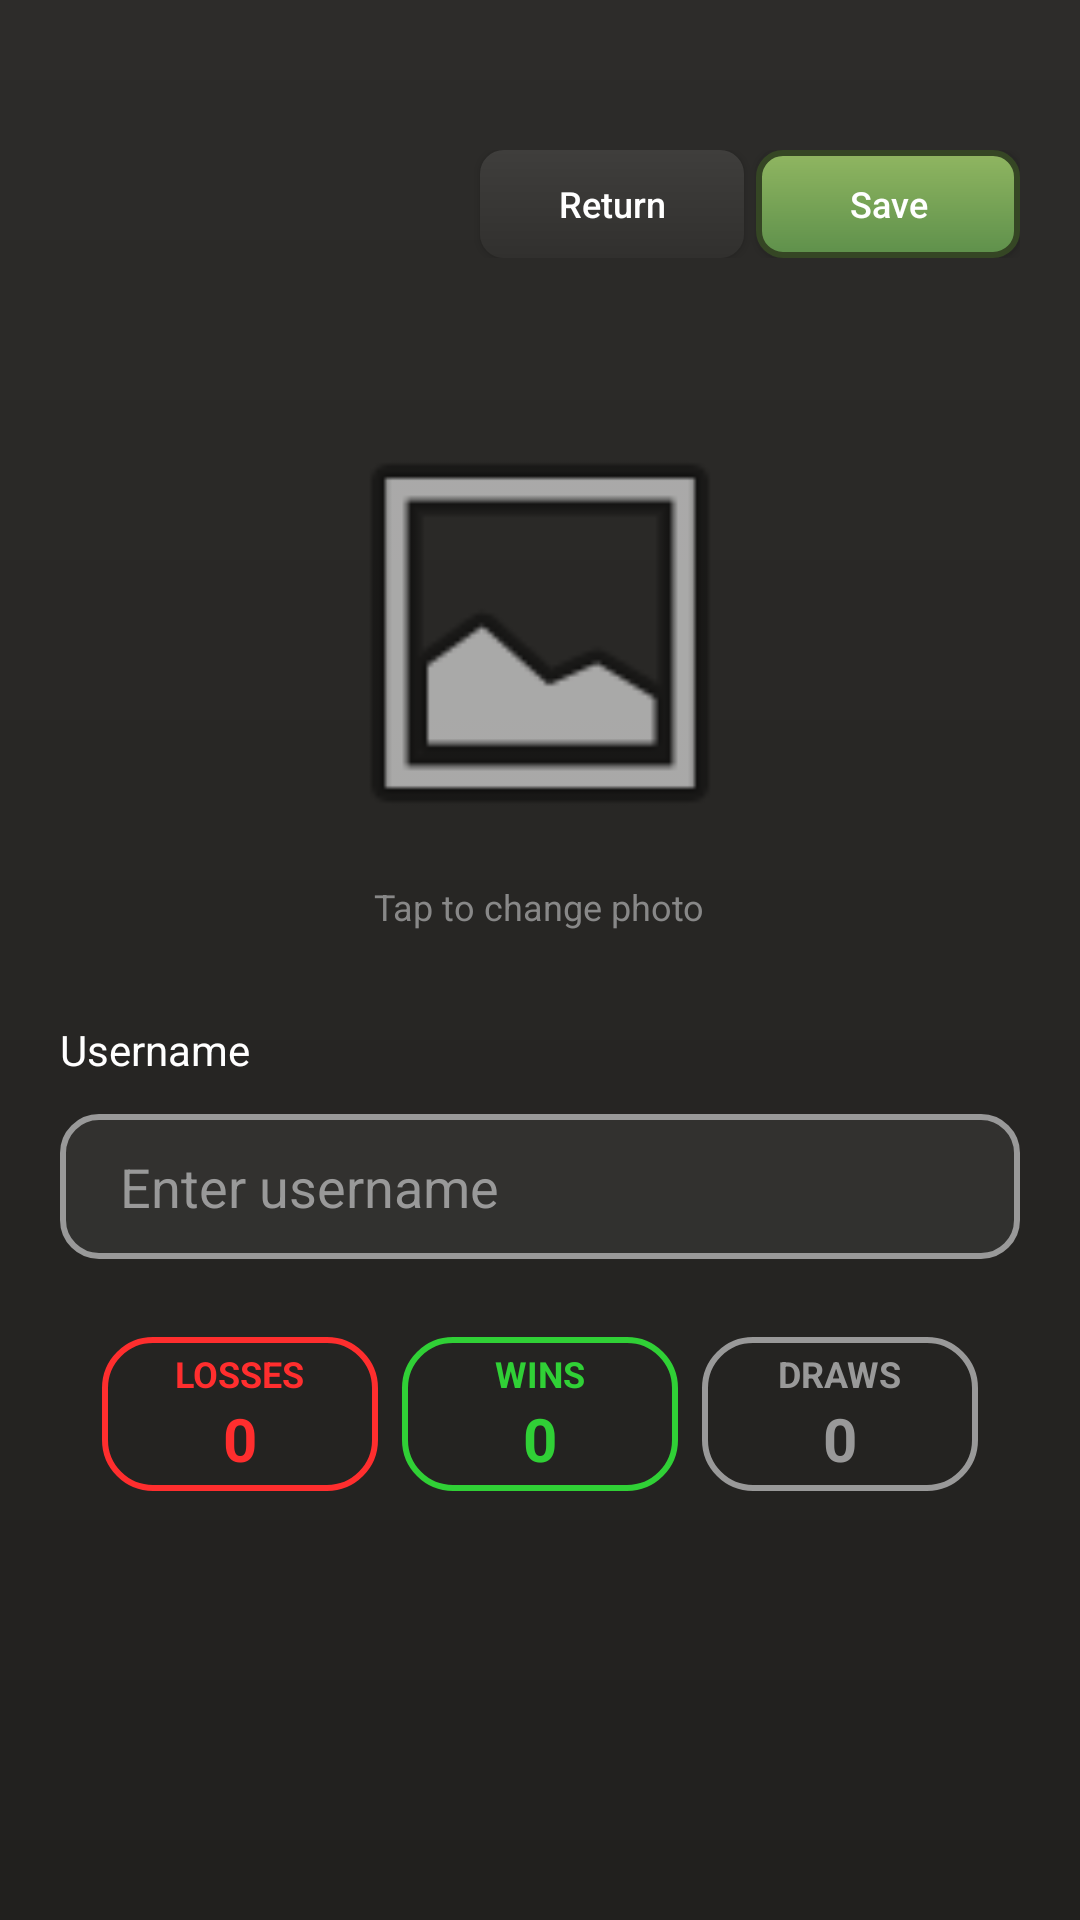

Named icons in this screenshot (1080 × 1920) and their centers, (x,y):
Profile Picture: (540,633)
